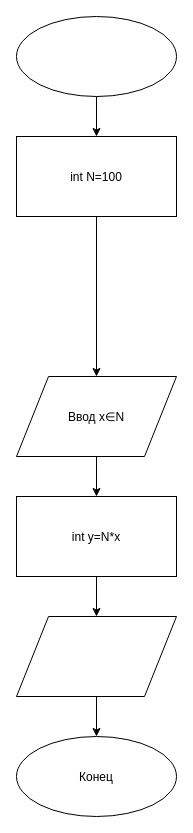
This 193x833 diagram has some shape labels left out. Here are the shapes that lost their labels. From the top down, the centre of each, then its label:
At [96,56]: "Начало".
At [96,656]: "Вывод N".
